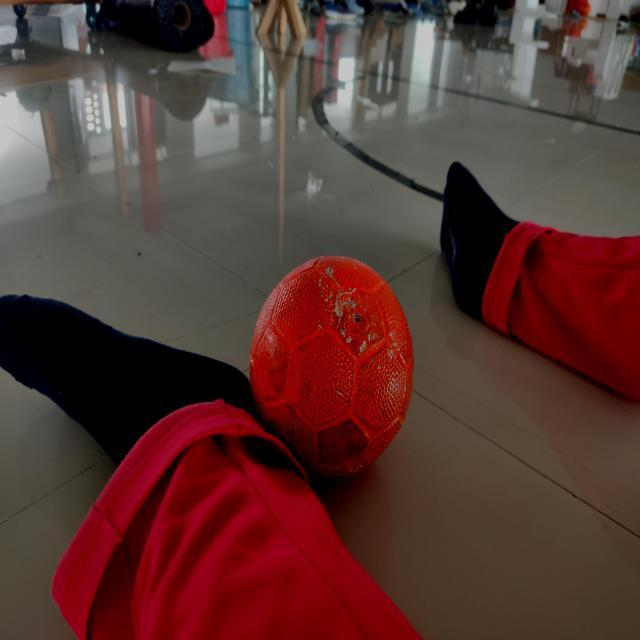bola: (243, 251, 416, 493)
